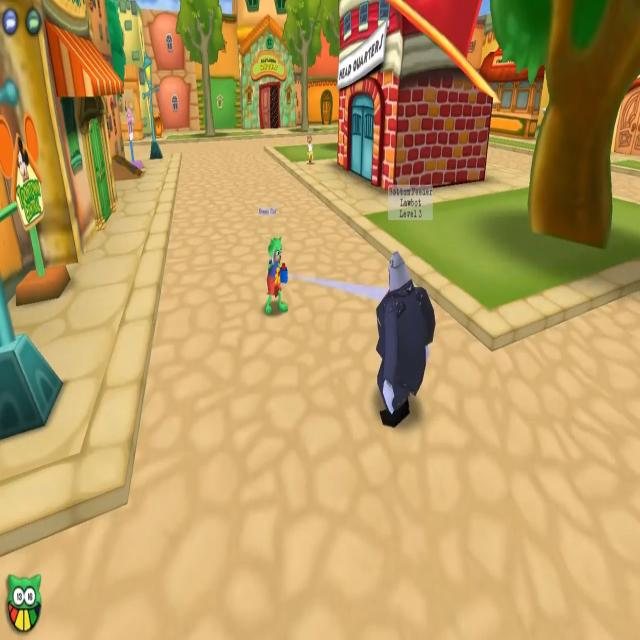bottomfeeder: (368, 184, 442, 425)
